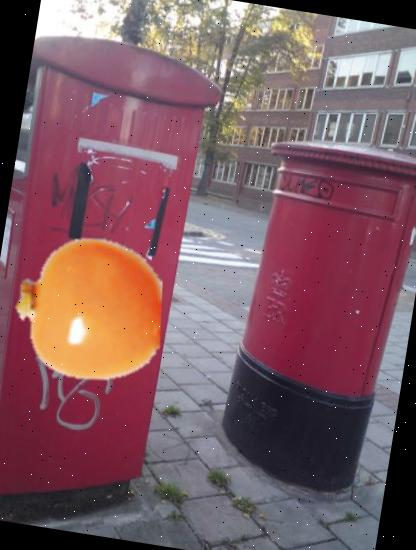Banana: (94, 282, 160, 348)
Physalis: (3, 223, 172, 392)
